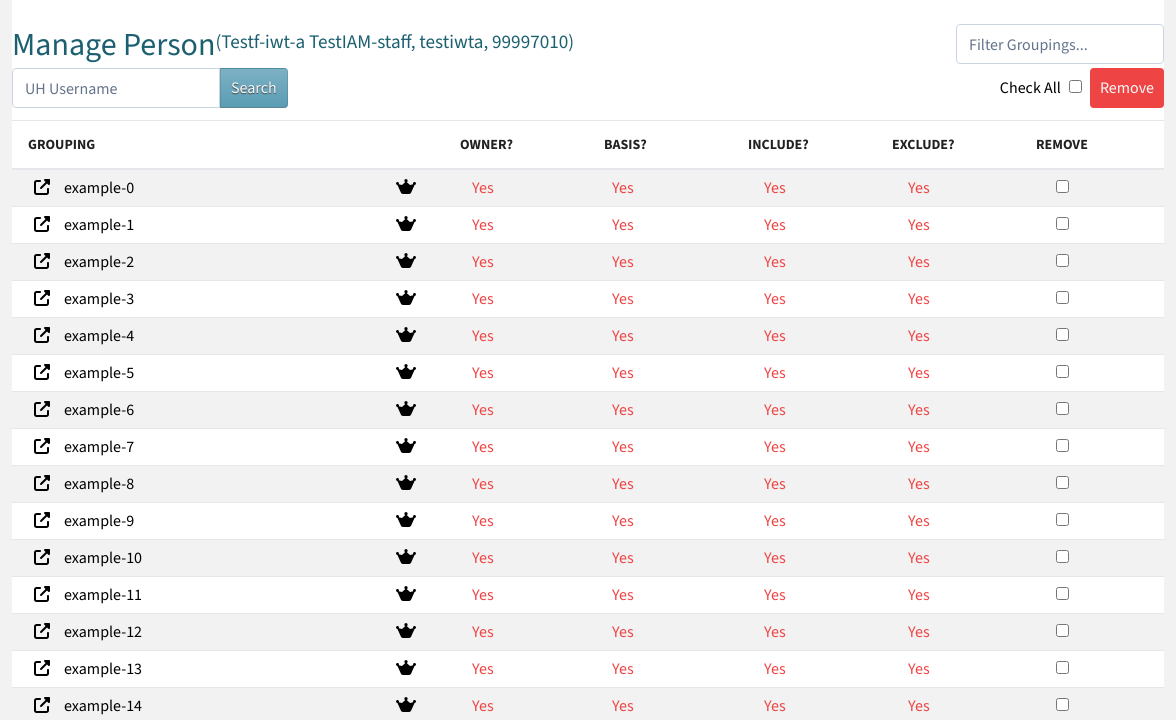
Test: PersonTable › renders tooltip on hover over Search button
The width and height of the screenshot is (1176, 720).
Step 1. Hover over the button "Search" → x=254, y=88, box 220,68 -> 288,108
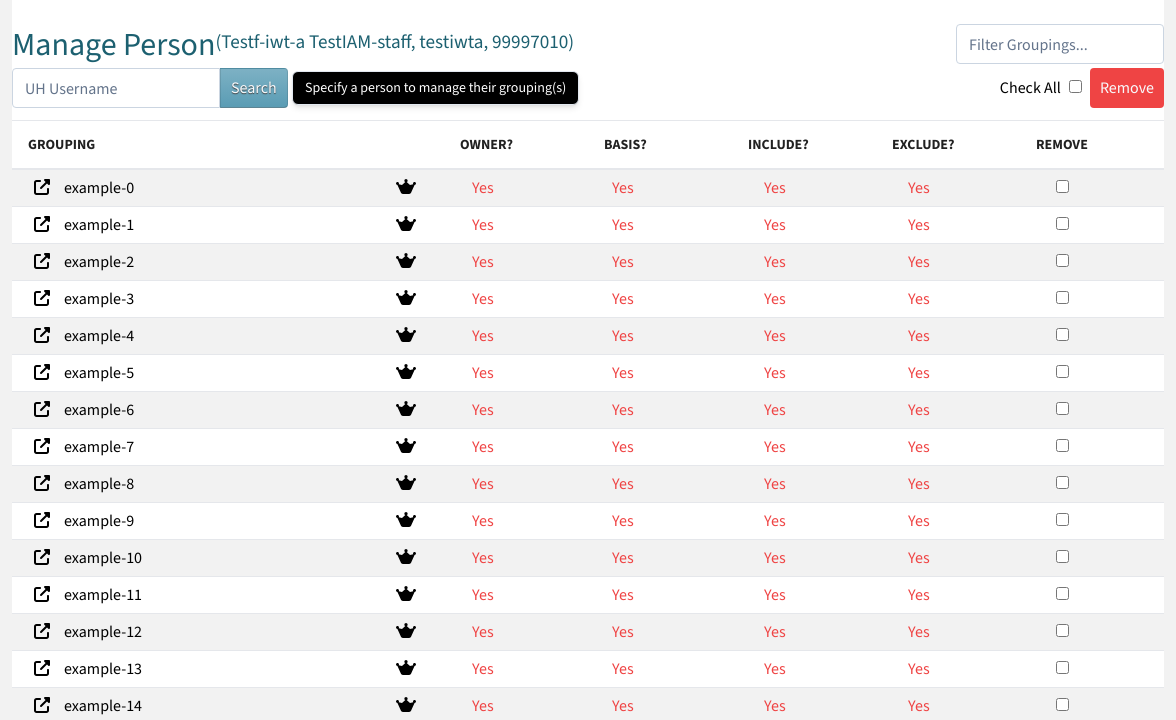
Now the tooltip "Specify a person to manage their grouping(s)" is shown, box 292,71 -> 579,105
